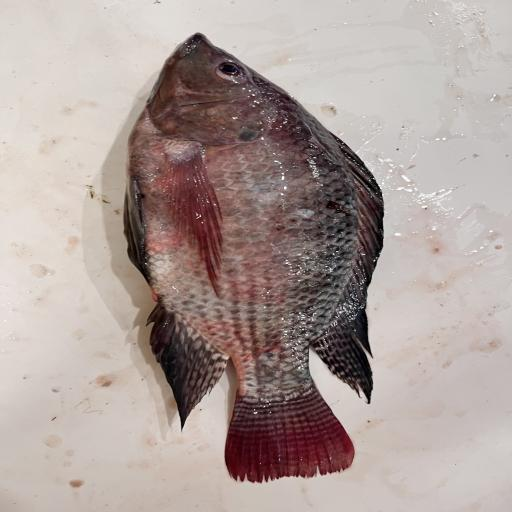Tilapia: (123, 33, 385, 484)
